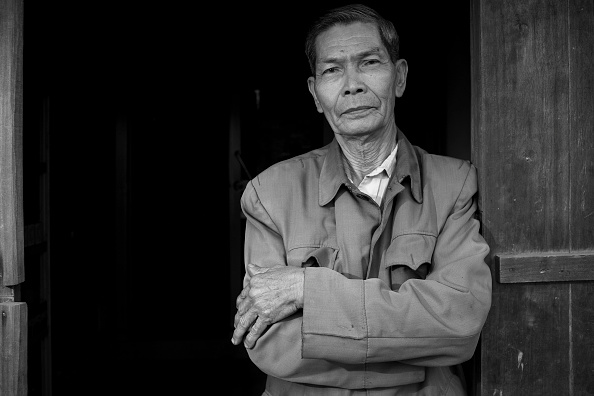em pe: (212, 0, 506, 396)
